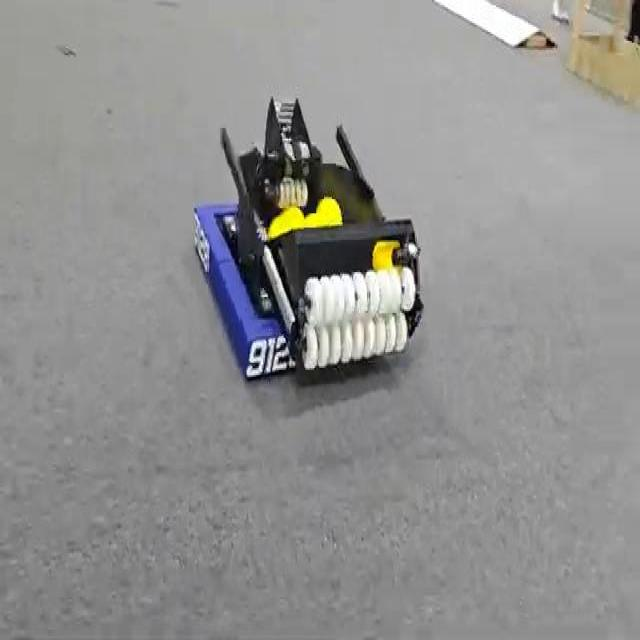Fuel: (267, 206, 304, 238), (316, 197, 343, 227), (316, 197, 342, 224), (302, 210, 331, 232), (304, 212, 324, 226)
